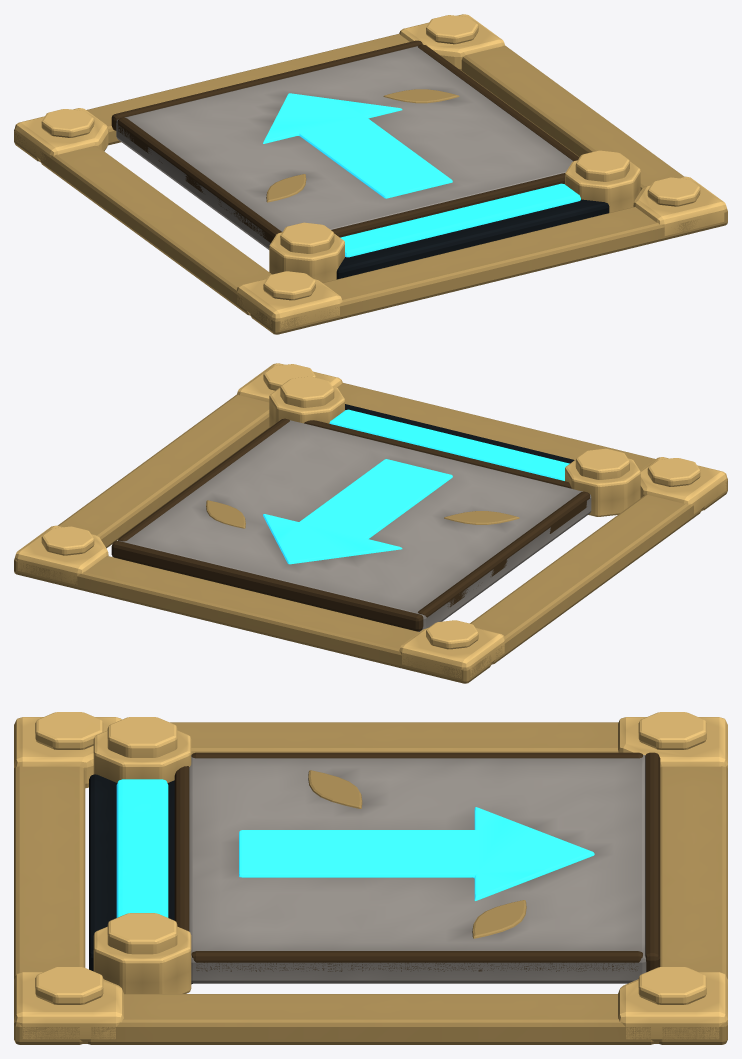
File: board_spring_1.glb
3 views of the same model, one above another, from view 1: azimuth 30°, elevation 25°; view 2: azimuth 150°, elevation 25°; view 3: azimuth 270°, elevation 25° (orthographic). The views are drawn at different scales.
Parts seen in each view (by area): view 1: Plate, Gold1, Gold3, Arrow, Gold2, Channel, Glow, Gold0, Bolt3, PlateEdge3, Bolt2, PlateEdge1 (+14 smaller); view 2: Plate, Gold0, Gold3, Gold2, Arrow, Gold1, PlateEdge0, Glow, Bolt1, PlateEdge3, Bolt0, ChBolt0 (+14 smaller); view 3: Plate, Gold2, Arrow, Gold1, Gold0, Gold3, Glow, PlateEdge2, Channel, Bolt2, Bolt0, ChBolt1 (+14 smaller).
Boxes of the visible parts, x1,y1,x2,y2 form: Plate: (116,46,573,249); Gold1: (250,207,727,334); Gold3: (40,146,271,315); Arrow: (263,93,452,198); Gold2: (461,45,683,190); Channel: (336,199,609,279); Glow: (340,183,580,257); Gold0: (14,34,409,161); Bolt3: (237,278,342,329); PlateEdge3: (117,117,281,242); Bolt2: (633,176,726,235); PlateEdge1: (331,173,565,237); Plate: (118,420,591,631); Gold0: (14,556,491,683); Gold3: (470,495,701,664); Gold2: (58,394,269,548); Arrow: (263,459,452,564); Gold1: (337,383,727,510); PlateEdge0: (111,541,423,631); Glow: (329,409,569,480); Bolt1: (399,627,504,678); PlateEdge3: (418,491,589,617); Bolt0: (15,525,108,584); ChBolt0: (565,458,640,516); Plate: (189,755,646,983); Gold2: (87,994,654,1044); Arrow: (239,807,594,900); Gold1: (14,766,85,1044); Gold0: (659,766,727,1044); Gold3: (170,722,618,754); Glow: (116,779,168,917); PlateEdge2: (191,951,642,971); Channel: (89,774,192,984); Bolt2: (14,972,123,1043); Bolt0: (618,972,727,1043); ChBolt1: (93,926,191,993).
Bounding box in the file's own units: 1 × 0.105 × 1.
